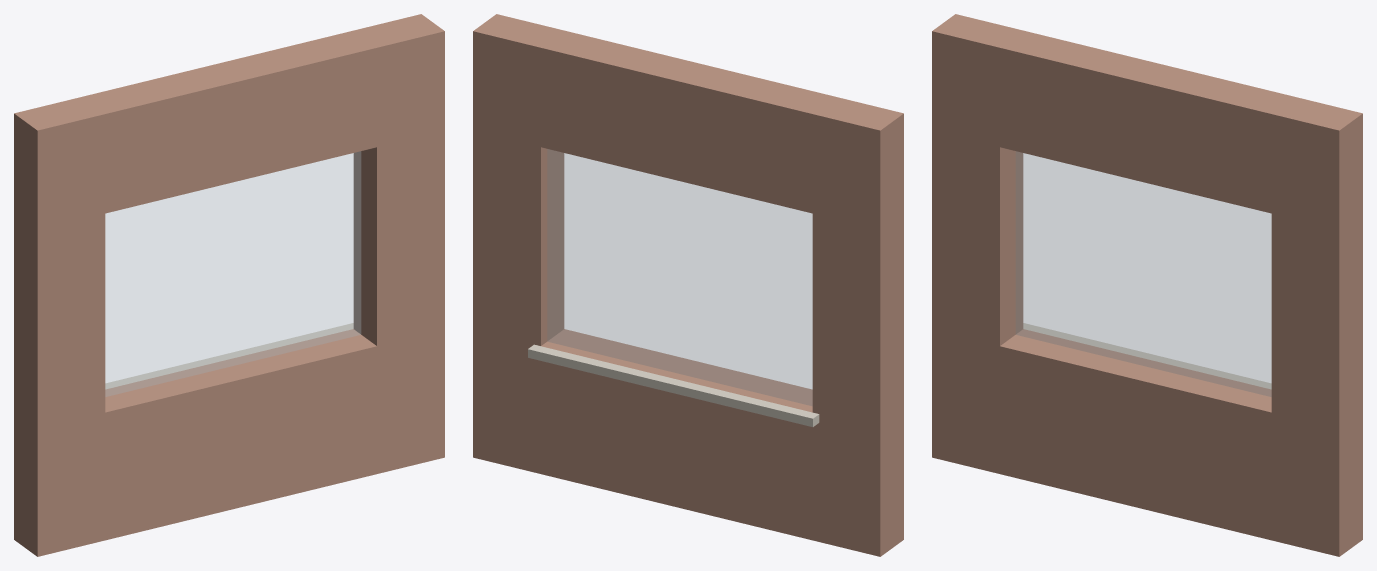
The model's file is fac_brick_win_c.glb.
3 renders of one model, left to right at view 1: azimuth 30°, elevation 25°; view 2: azimuth 150°, elevation 25°; view 3: azimuth 330°, elevation 25°, orthographic.
Visible parts, largest first — view 1: fac_brick_win_c; view 2: fac_brick_win_c; view 3: fac_brick_win_c.
Boxes of the visible parts, x1=… form: fac_brick_win_c: x1=14, y1=14, x2=444, y2=556; fac_brick_win_c: x1=473, y1=14, x2=903, y2=556; fac_brick_win_c: x1=932, y1=14, x2=1362, y2=556.
Size of what is drawn, in the model's own units: 3 by 3 by 0.38.
